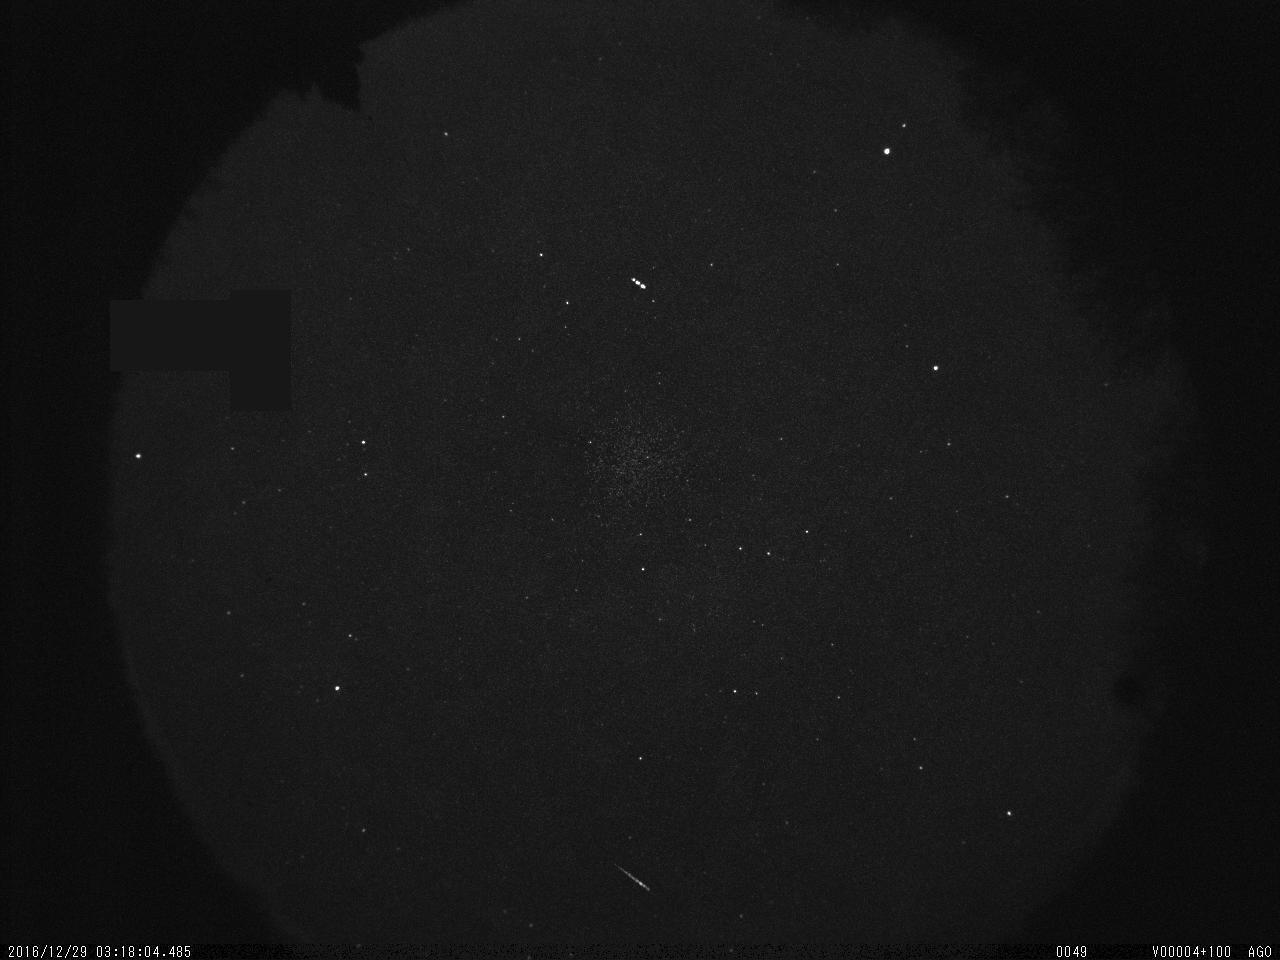meteor: (608, 853, 663, 902)
